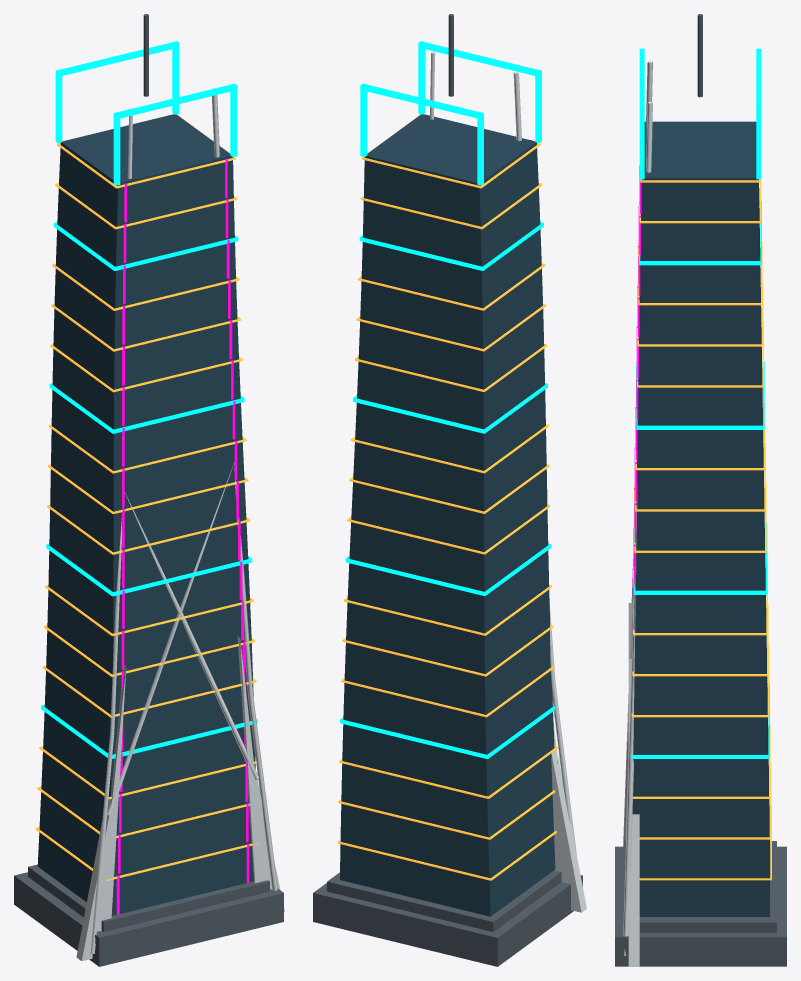
The model's file is stage 9.glb.
The picture shows the model from 3 angles, left to right: view 1: azimuth 30°, elevation 25°; view 2: azimuth 150°, elevation 25°; view 3: azimuth 270°, elevation 25°; orthographic projection.
Parts seen in each view (by area): view 1: SkyGateGlassSail, SkyGatePodium, SkyGateGoldBands, SkyGateExoskeleton, SkyGateMagentaEdges, SkyGateFeatureBands, OpenSkyGateCrown, SkyGateLeftSail, SkyGateRightSail; view 2: SkyGateGlassSail, SkyGatePodium, SkyGateGoldBands, SkyGateFeatureBands, OpenSkyGateCrown, SkyGateLeftSail, SkyGateExoskeleton; view 3: SkyGateGlassSail, SkyGatePodium, SkyGateGoldBands, SkyGateFeatureBands, SkyGateExoskeleton, SkyGateRightSail, OpenSkyGateCrown, SkyGateMagentaEdges, SkyGateAntenna.
Boxes of the visible parts, left/top/right/bottom form: SkyGateGlassSail: left=37, top=114, right=255, bottom=915; SkyGatePodium: left=14, top=864, right=283, bottom=966; SkyGateGoldBands: left=35, top=114, right=259, bottom=880; SkyGateExoskeleton: left=90, top=88, right=277, bottom=953; SkyGateMagentaEdges: left=116, top=158, right=249, bottom=914; SkyGateFeatureBands: left=41, top=222, right=257, bottom=758; OpenSkyGateCrown: left=55, top=41, right=237, bottom=185; SkyGateLeftSail: left=76, top=665, right=126, bottom=960; SkyGateRightSail: left=237, top=636, right=284, bottom=911; SkyGateGlassSail: left=340, top=114, right=555, bottom=916; SkyGatePodium: left=313, top=870, right=582, bottom=966; SkyGateGoldBands: left=337, top=114, right=558, bottom=880; SkyGateFeatureBands: left=340, top=222, right=555, bottom=758; OpenSkyGateCrown: left=360, top=41, right=541, bottom=185; SkyGateLeftSail: left=551, top=720, right=586, bottom=912; SkyGateExoskeleton: left=430, top=51, right=576, bottom=854; SkyGateGlassSail: left=632, top=121, right=769, bottom=916; SkyGatePodium: left=615, top=841, right=786, bottom=966; SkyGateGoldBands: left=631, top=179, right=771, bottom=880; SkyGateFeatureBands: left=631, top=201, right=769, bottom=758; SkyGateExoskeleton: left=623, top=60, right=652, bottom=955; SkyGateRightSail: left=628, top=659, right=639, bottom=966; OpenSkyGateCrown: left=639, top=48, right=761, bottom=179; SkyGateMagentaEdges: left=632, top=165, right=641, bottom=629; SkyGateAntenna: left=697, top=14, right=702, bottom=97.
Bounding box in the file's own units: 13.2 × 55.95 × 9.6.
